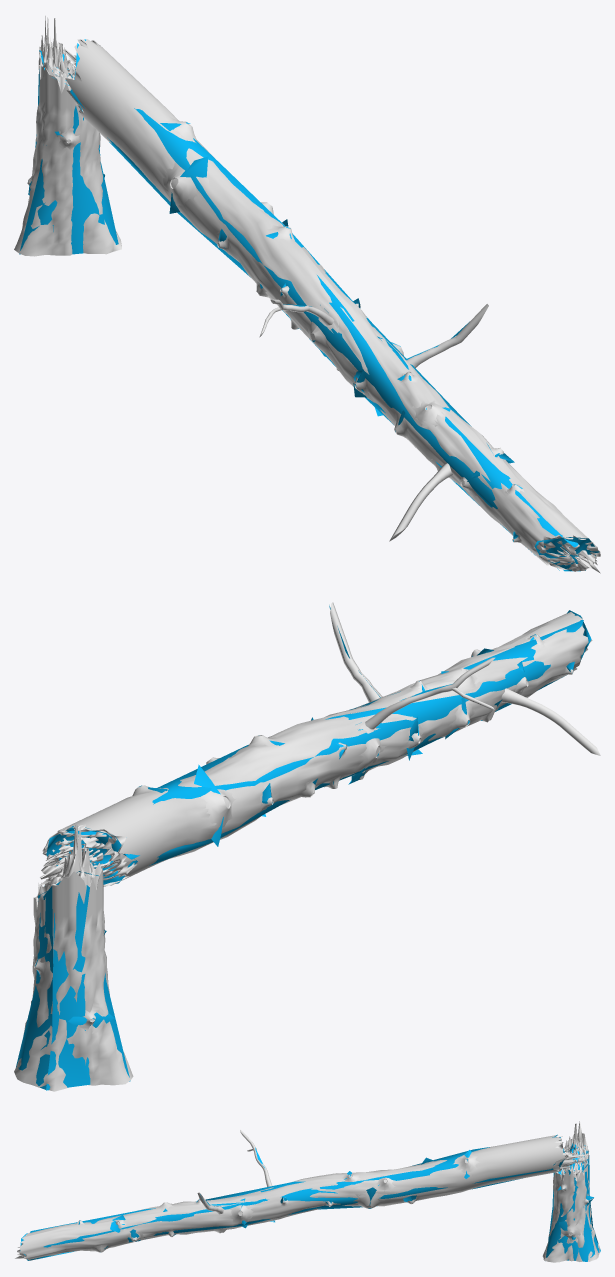
Rendered from Deadtree03_180.fbx.
The picture shows the model from 3 angles, top to bottom: view 1: azimuth 30°, elevation 25°; view 2: azimuth 150°, elevation 25°; view 3: azimuth 270°, elevation 25°; orthographic projection. The views are drawn at different scales.
Visible parts, largest first — view 1: DeadTree03_LOD0, UTM_DeadTree03; view 2: DeadTree03_LOD0, UTM_DeadTree03; view 3: DeadTree03_LOD0, UTM_DeadTree03.
Boxes of the visible parts, x1,y1,x2,y2 form: DeadTree03_LOD0: (14,16,600,573); UTM_DeadTree03: (19,39,599,571); DeadTree03_LOD0: (14,602,600,1091); UTM_DeadTree03: (16,605,591,1090); DeadTree03_LOD0: (15,1121,599,1262); UTM_DeadTree03: (20,1134,600,1261).
Size of what is drawn, in the model's own units: 118 by 134 by 556.
